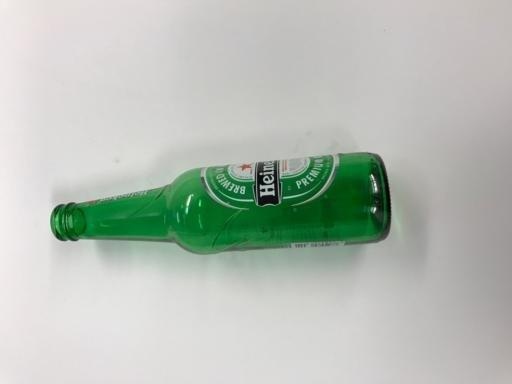botolkaca: (50, 153, 391, 255)
